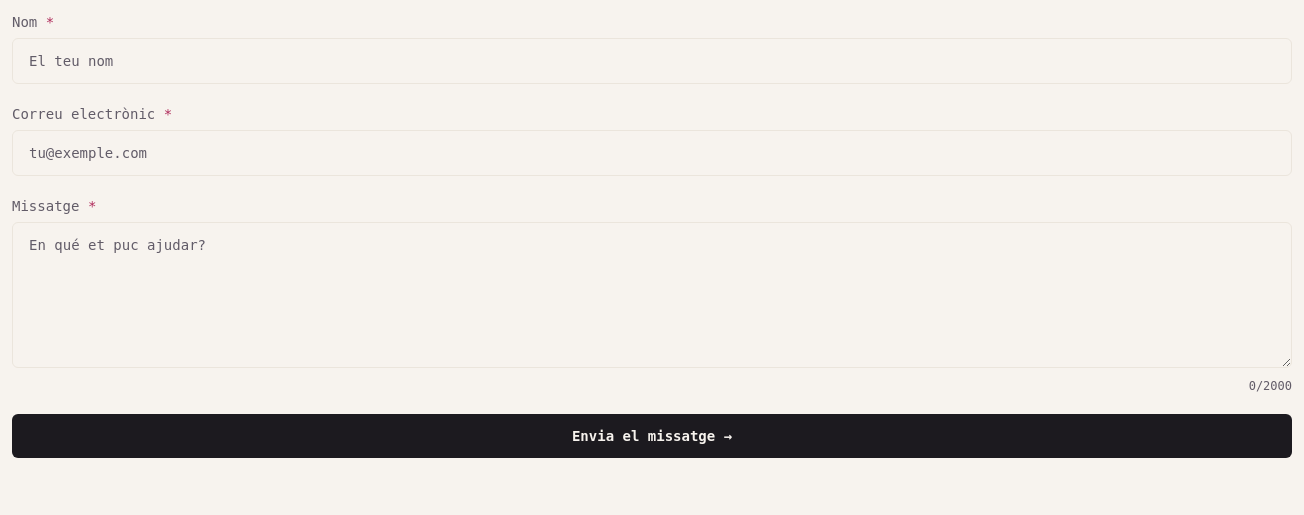
ContactForm — error states › shows API error message on 400 response
Step 1. Type "Anna Garcia" into the field labelled "Nom *" → (652, 61), box [12,38,1292,84]
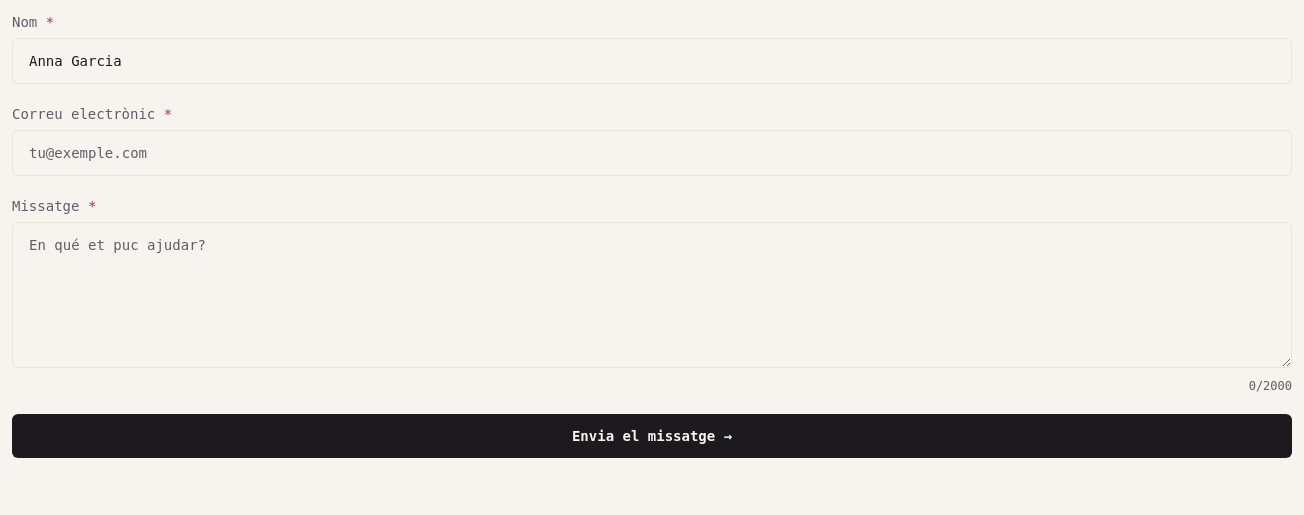
Step 2. Type "anna@exemple.com" into the field labelled "Correu electrònic *" → (652, 153), box [12,130,1292,176]
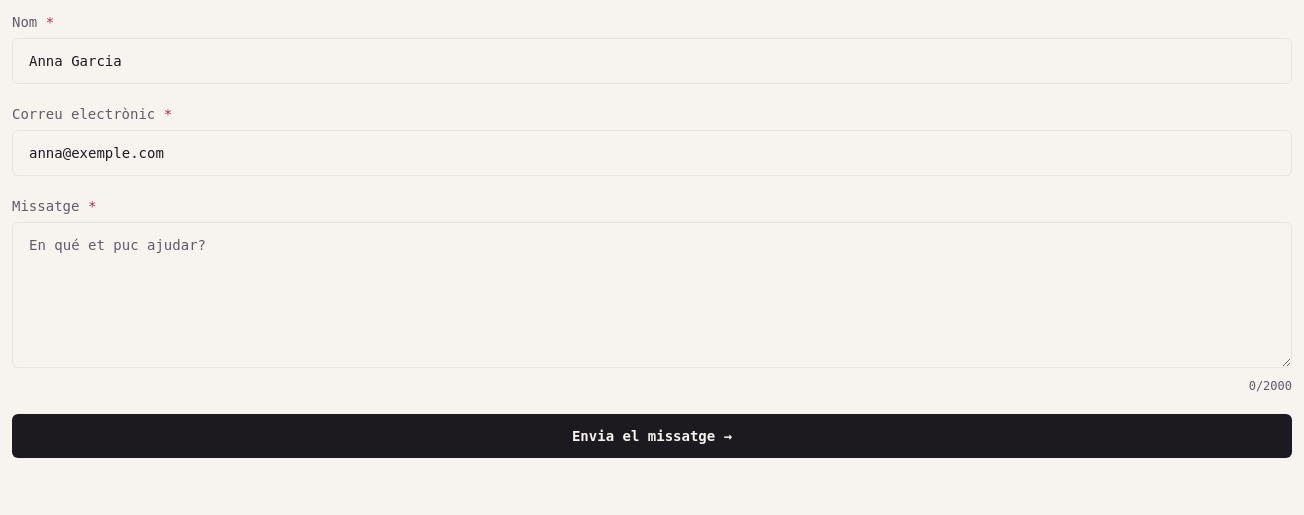
Step 3. Type "Hola, tinc una pregunta!" into the text box labelled "Missatge *" → (652, 295), box [12,222,1292,368]
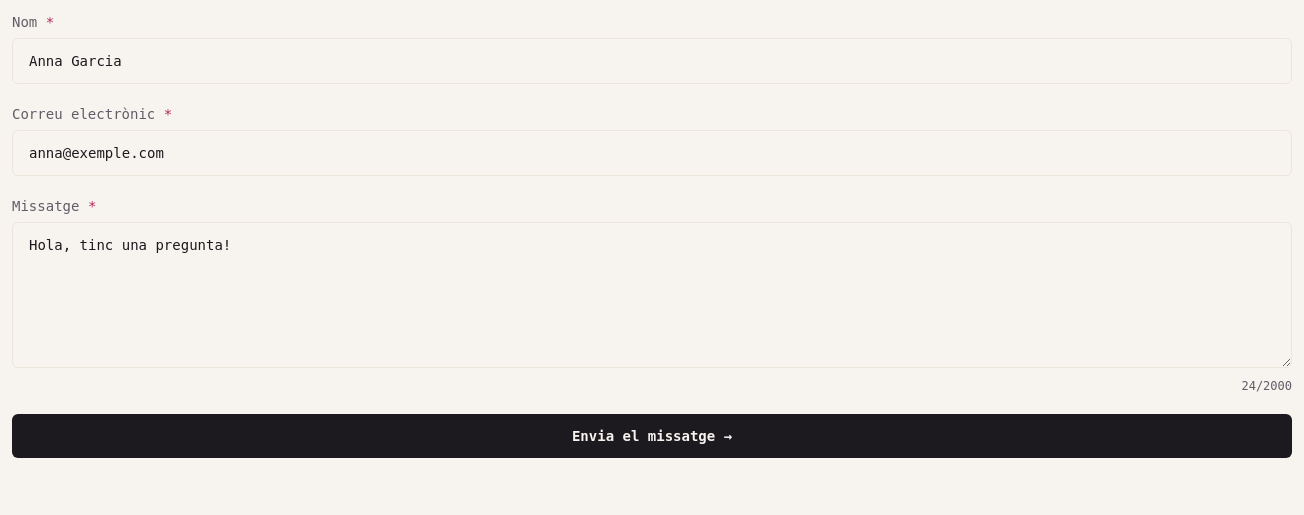
Step 4. Submit the form
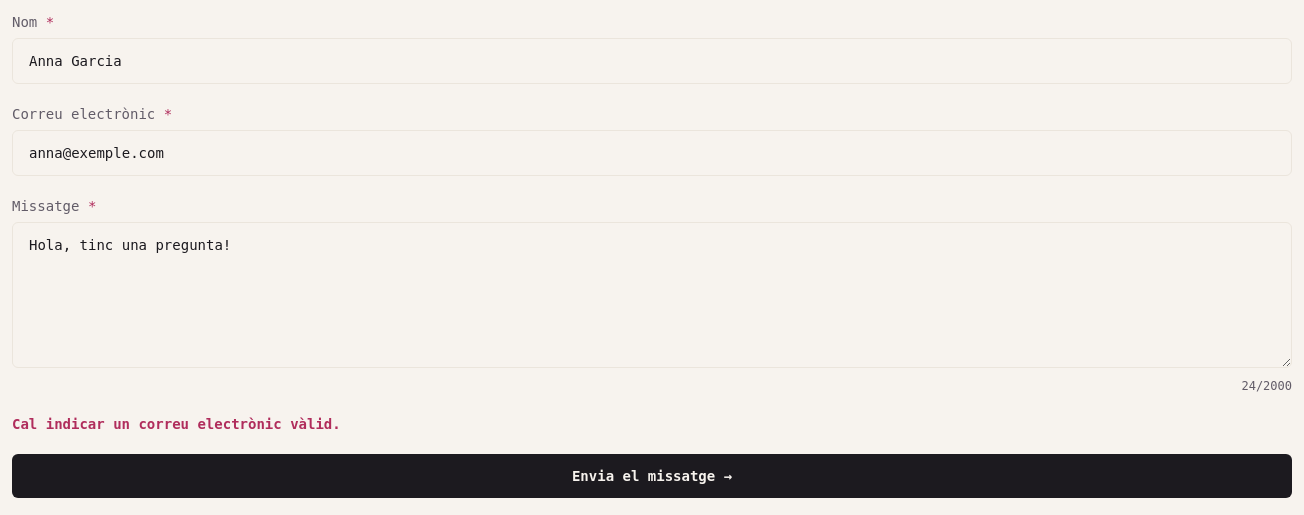
Expected: the text "Cal indicar un correu electrònic vàlid." is shown, [12,416,341,432]
